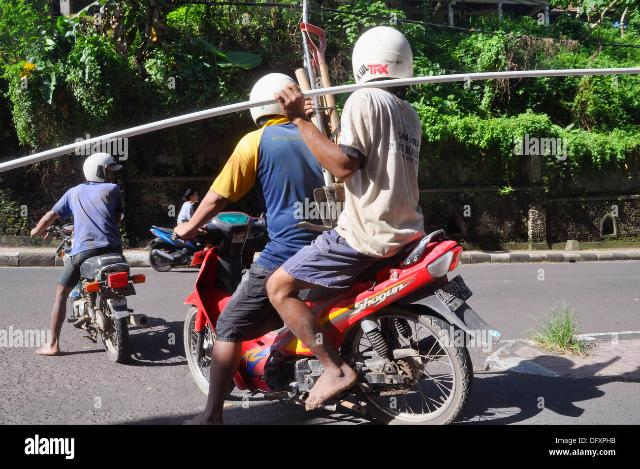helm: (348, 24, 419, 95), (246, 73, 311, 126), (84, 152, 125, 186)
motor: (170, 202, 484, 426), (43, 225, 160, 365)
